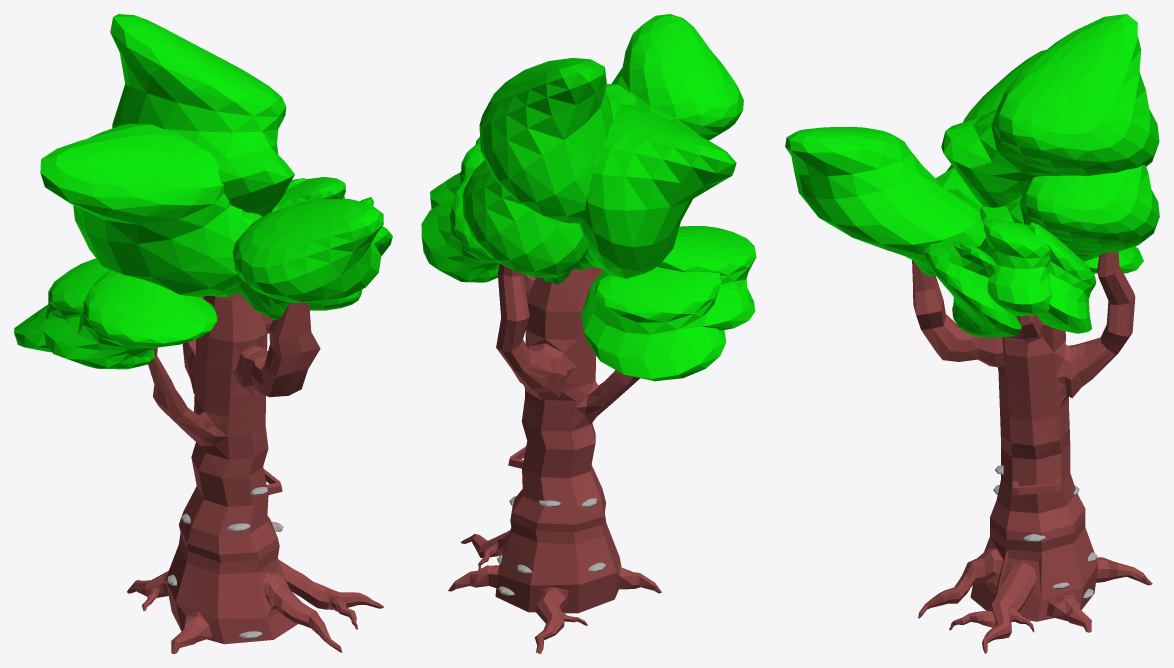
The model's file is 01_treeC_01.fbx.
3 views of the same model, side by side, from view 1: azimuth 30°, elevation 25°; view 2: azimuth 150°, elevation 25°; view 3: azimuth 270°, elevation 25° (orthographic). The views are drawn at different scales.
Visible parts, largest first — view 1: polySurface32, polySurface41; view 2: polySurface32, polySurface41; view 3: polySurface32, polySurface41.
Part boxes in pixels (x1=…): polySurface32: x1=14, y1=14, x2=392, y2=369; polySurface41: x1=127, y1=293, x2=383, y2=653; polySurface32: x1=421, y1=14, x2=756, y2=381; polySurface41: x1=448, y1=263, x2=661, y2=653; polySurface32: x1=785, y1=14, x2=1159, y2=337; polySurface41: x1=912, y1=251, x2=1152, y2=653.
Size of the model in its own units: 6.86 by 12.13 by 7.38.
